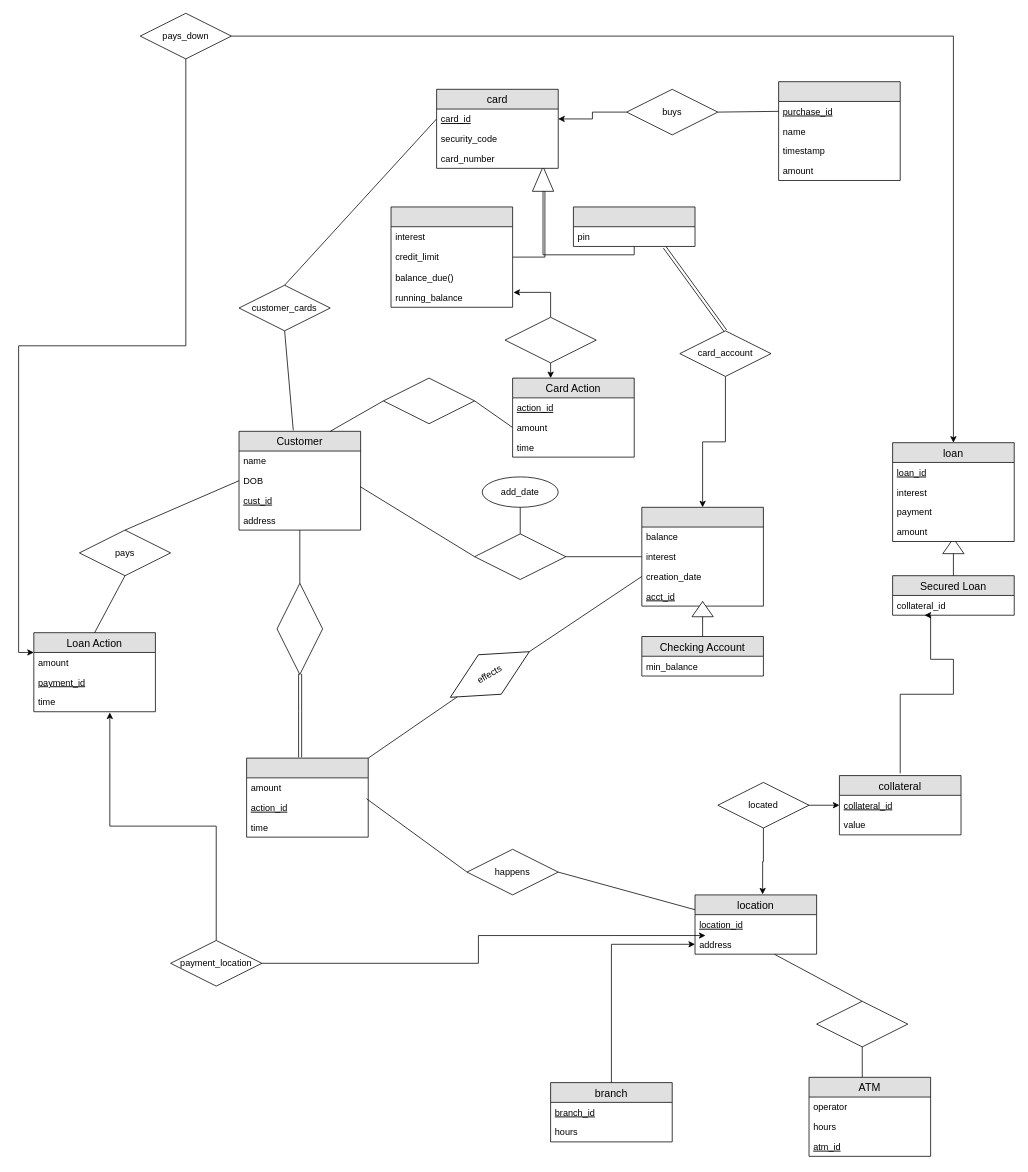
Image size: 1028x1172. Some labels were removed from this diagram. The shapes that lost their labels are listed below. From the top down, each one's box as (x1, y1, x2, y2) in pixels, then its label:
(778, 81, 900, 180): Purchases
(573, 206, 695, 246): Debit Card
(390, 206, 513, 307): Credit Card
(504, 317, 596, 363): card_payments
(383, 377, 475, 424): makes
(474, 533, 566, 580): holds
(641, 507, 763, 606): Account
(276, 583, 323, 674): performs
(246, 757, 368, 837): Account Action
(816, 1001, 908, 1047): ATM_locatins
